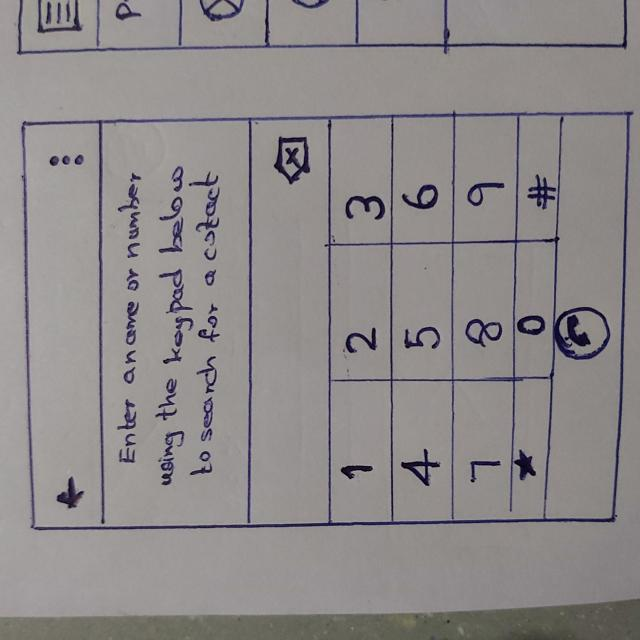ActionButton: (47, 150, 87, 171)
AppBar: (21, 120, 110, 531)
BackButton: (52, 472, 87, 513)
EditText: (247, 118, 334, 526)
Icon: (274, 135, 312, 186)
IconButton: (554, 303, 616, 367)
Keyboard: (329, 117, 554, 519)
MainLayout: (15, 112, 628, 527)
TextView: (117, 167, 227, 488)
